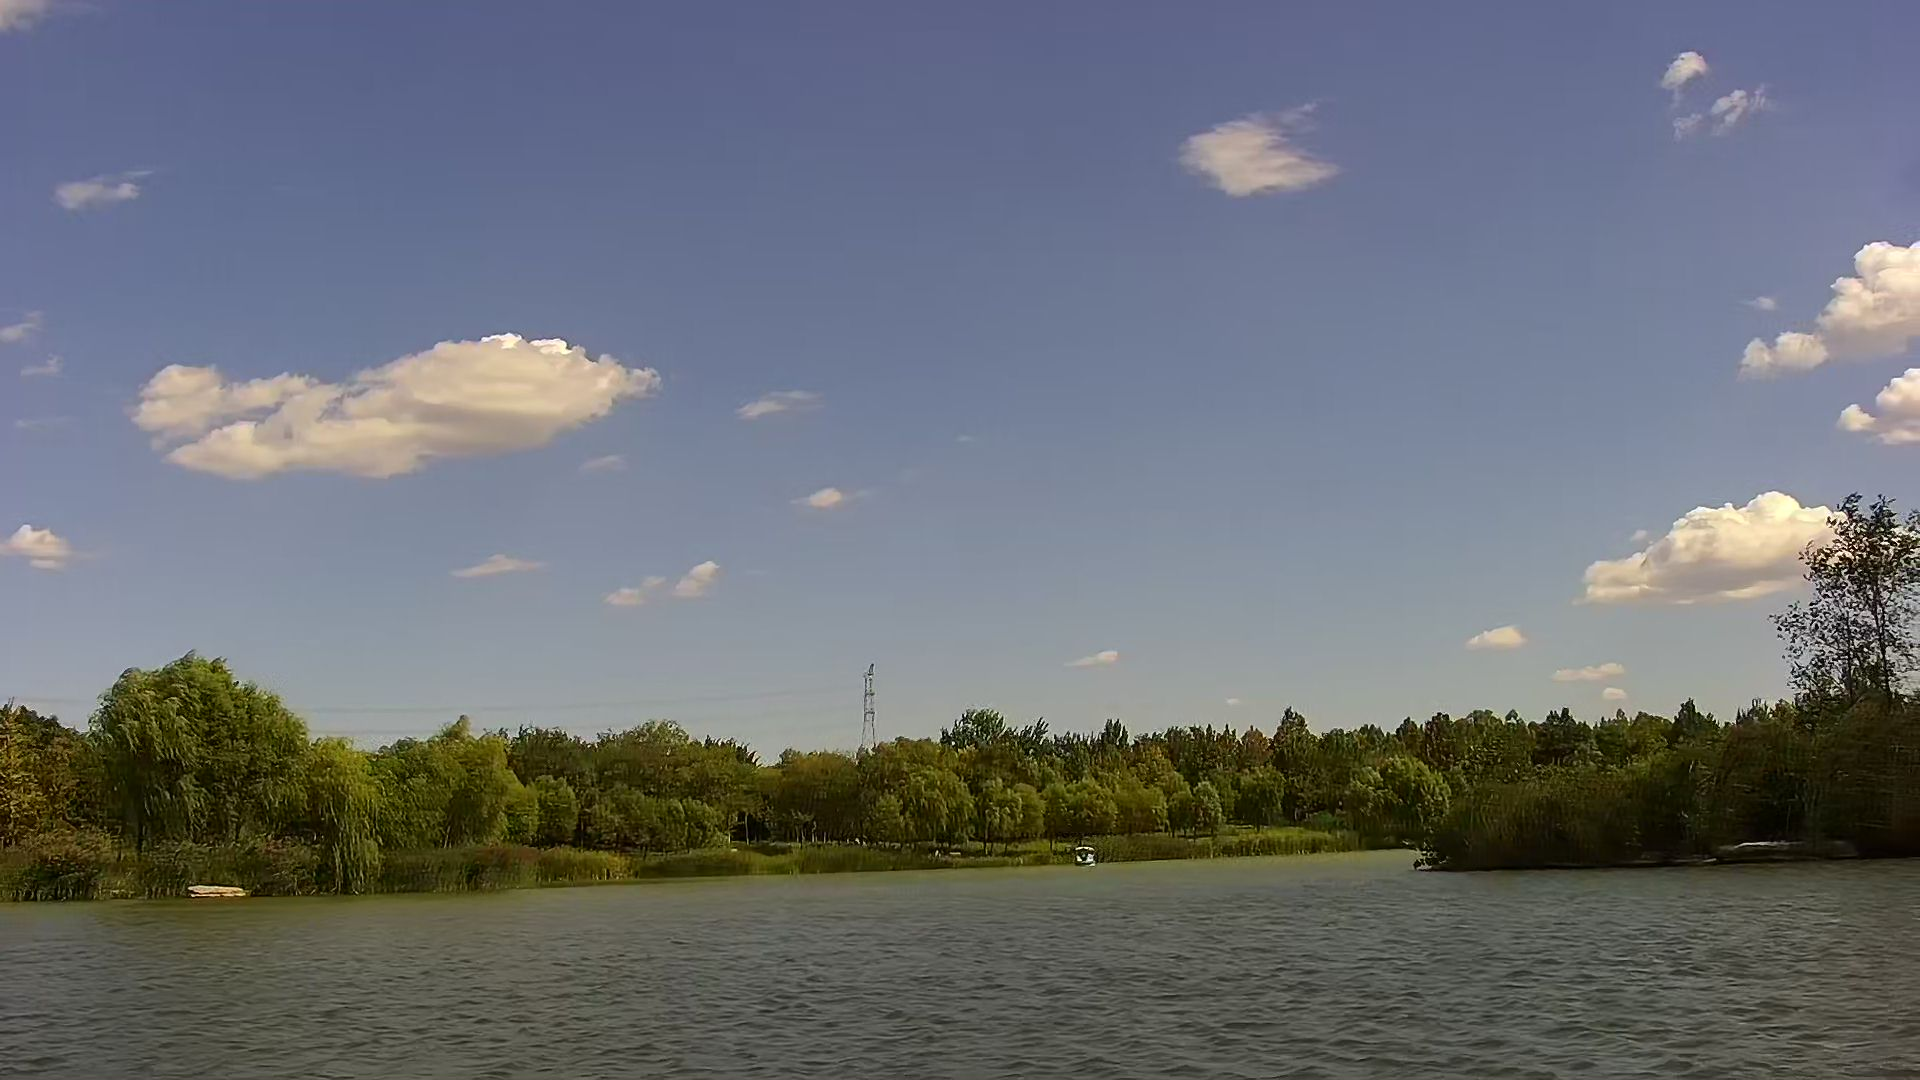boat: (1077, 841, 1093, 864)
rock: (185, 884, 247, 899)
